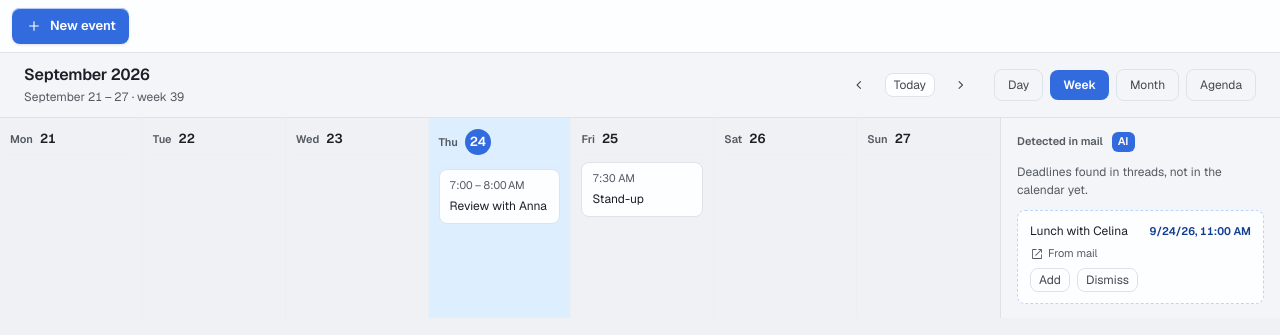
Test case: CalendarSpace › takes a proposal onto the calendar and takes the card away before the read comes back
Expected: the text "Lunch with Celina" is shown, [1030, 222, 1140, 240]
Click the button "Add" at (1050, 280), box [1030, 268, 1070, 292]
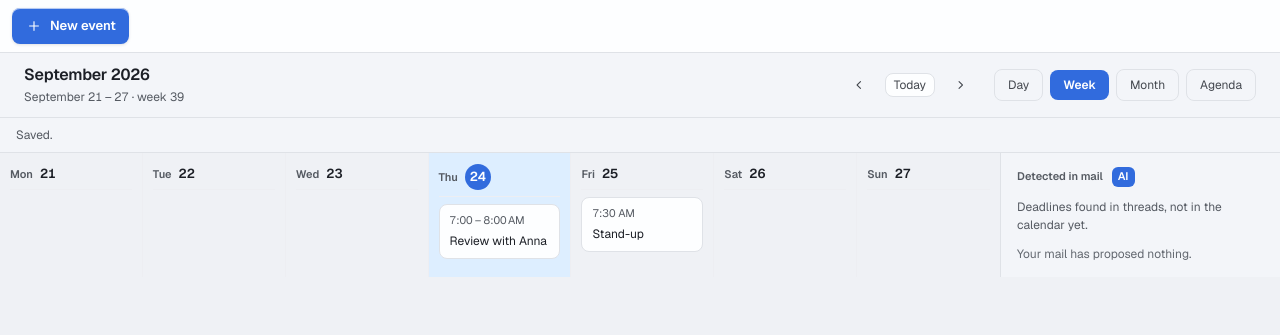
Now the text "Lunch with Celina" is gone
